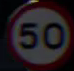Speed limit: (6, 3, 68, 60)
